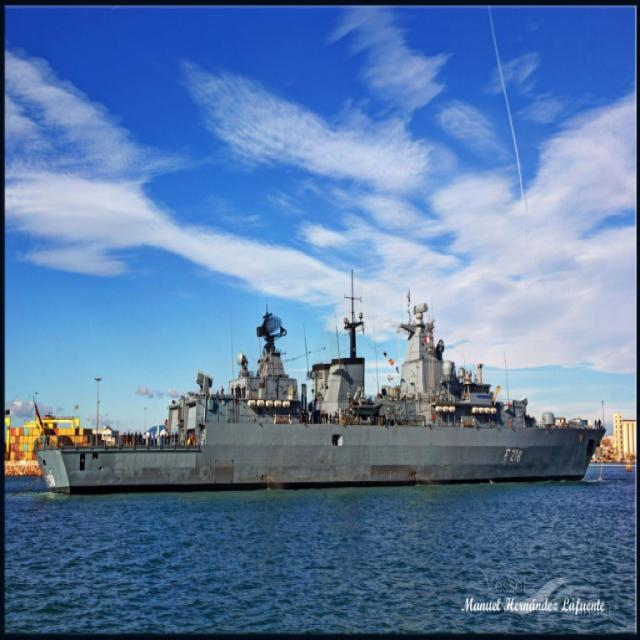OCR: (499, 440, 529, 470)
